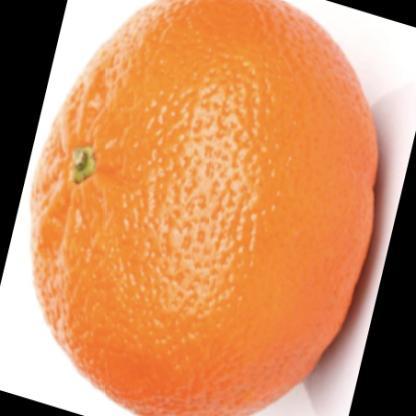fresh: (34, 1, 379, 416)
